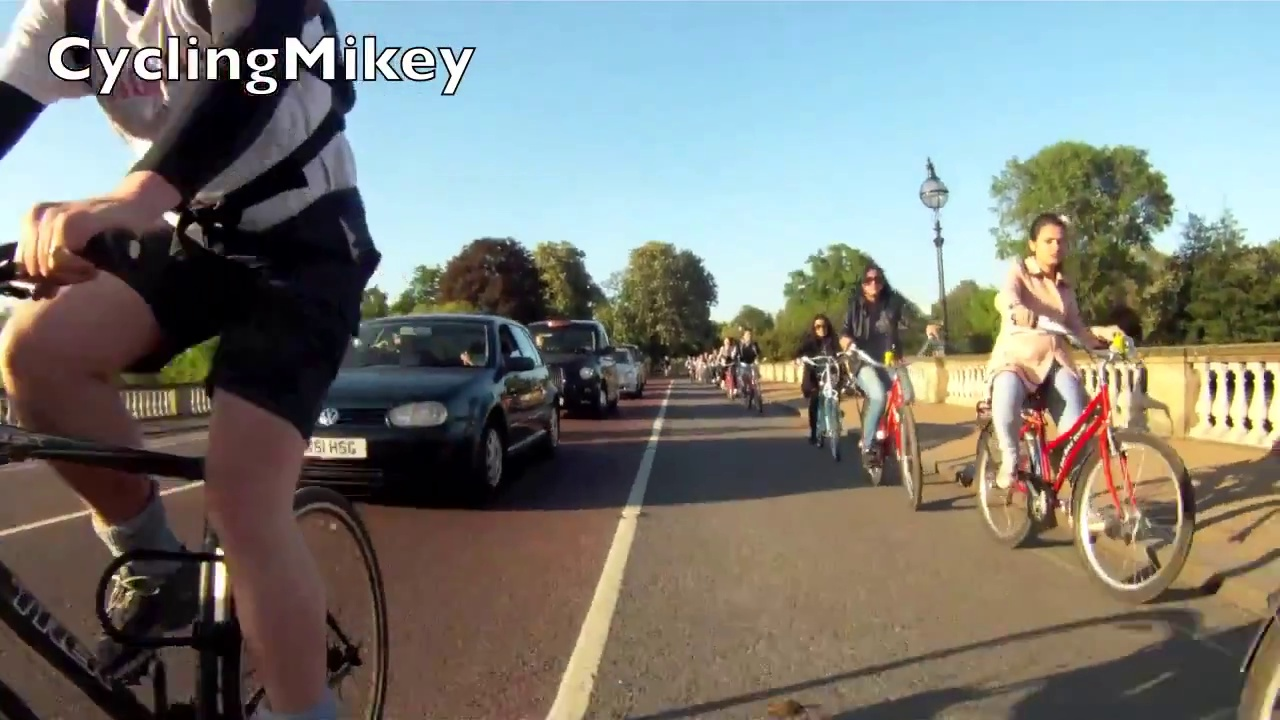cyclist_front: (979, 194, 1195, 593), (842, 249, 949, 516), (791, 309, 855, 460), (733, 319, 773, 423)
